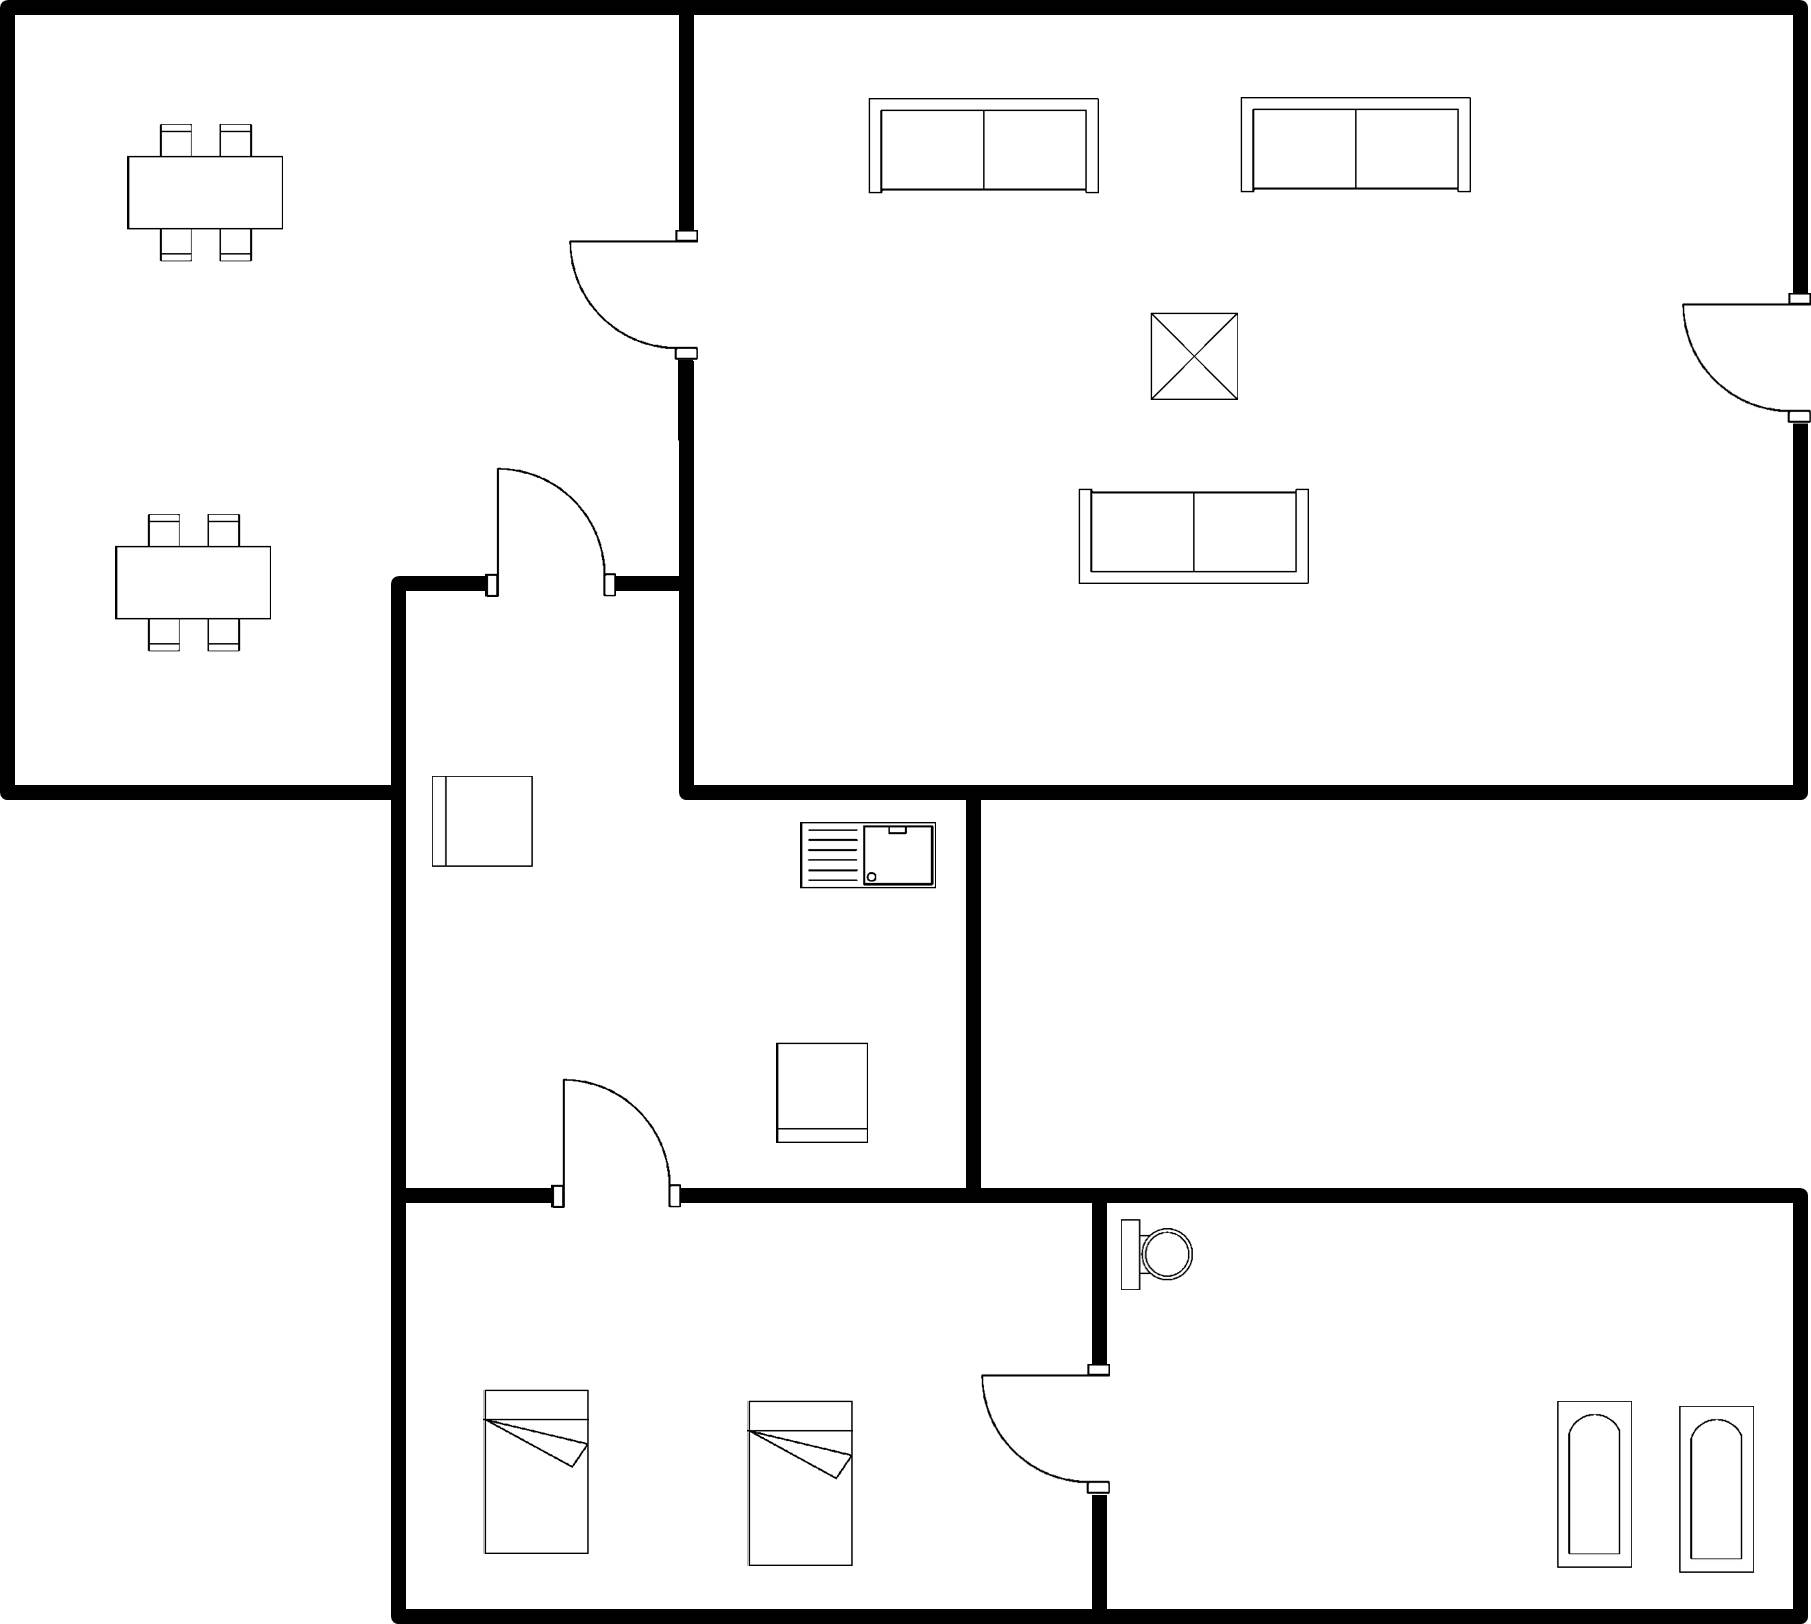bed: (733, 1386, 867, 1579), (473, 1376, 606, 1570)
coffee_table: (1136, 302, 1251, 414)
dining_table: (113, 109, 298, 275), (101, 498, 284, 662)
large_sink: (1113, 1202, 1206, 1302)
large_sofa: (1063, 478, 1327, 600), (1228, 86, 1486, 208), (857, 86, 1111, 205)
sink: (787, 808, 947, 902)
small_sofa: (417, 760, 549, 882), (763, 1032, 882, 1155)
tub: (1662, 1394, 1768, 1586), (1544, 1386, 1646, 1579)
